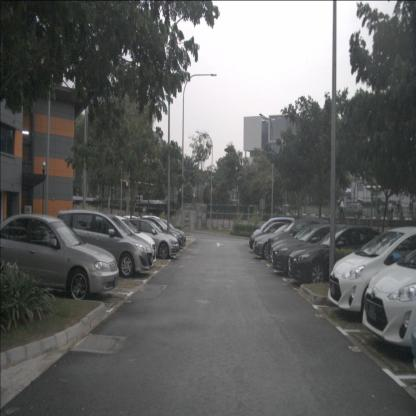human-pedestrian-adult: (358, 198, 364, 218), (388, 200, 394, 219), (397, 201, 402, 220), (408, 202, 413, 220), (340, 199, 344, 218), (377, 200, 380, 218)
vehicle-car: (0, 213, 119, 301), (327, 226, 415, 317), (55, 209, 153, 278), (288, 226, 397, 286), (361, 242, 416, 350), (272, 223, 360, 277), (93, 214, 156, 262), (268, 216, 331, 264), (123, 218, 179, 260), (253, 223, 314, 261), (249, 223, 302, 253), (135, 217, 182, 248), (252, 218, 296, 247), (145, 217, 186, 247), (338, 202, 363, 220)
